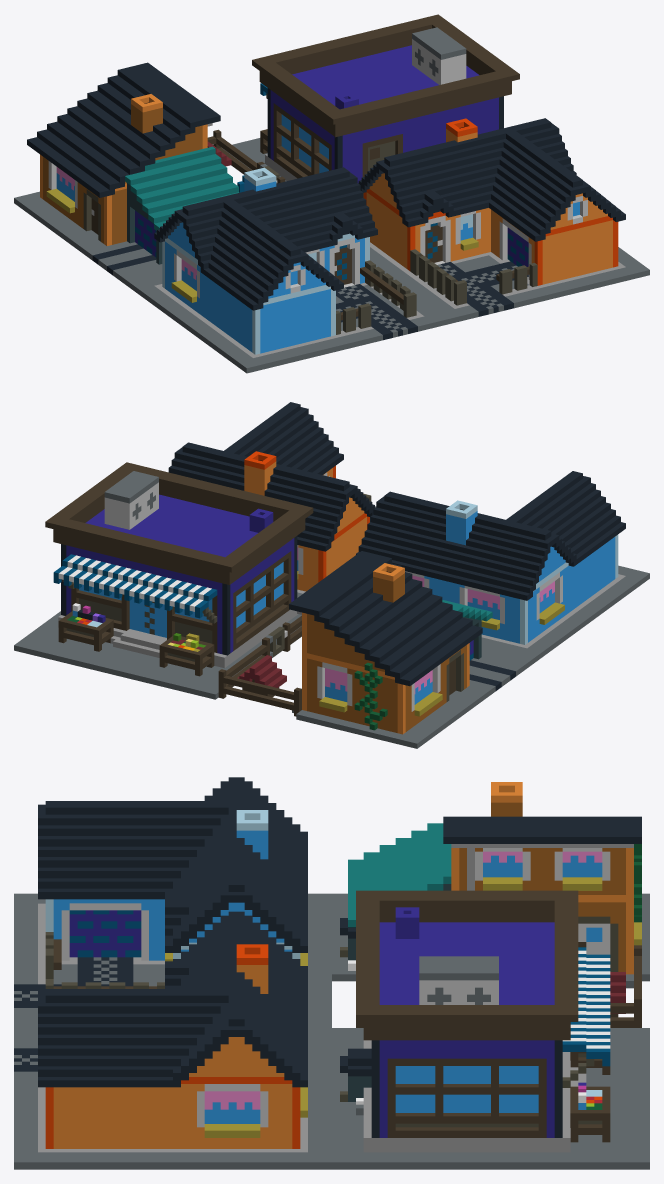
The model's file is building_small_11_overtile.obj.
3 views of the same model, one above another, from view 1: azimuth 30°, elevation 25°; view 2: azimuth 150°, elevation 25°; view 3: azimuth 270°, elevation 25° (orthographic). The views are drawn at different scales.
Size of the model in its own units: 8 by 2.4 by 8.
Materials: 1 (1 with a texture image).
